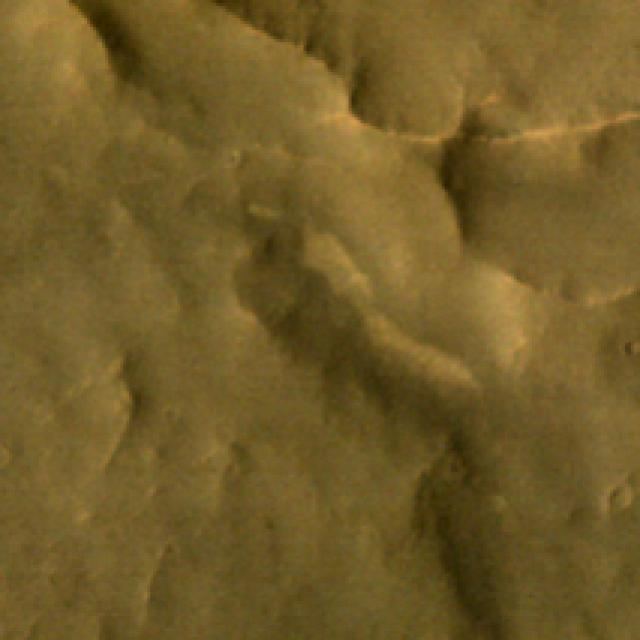Crater: (0, 0, 640, 216)
